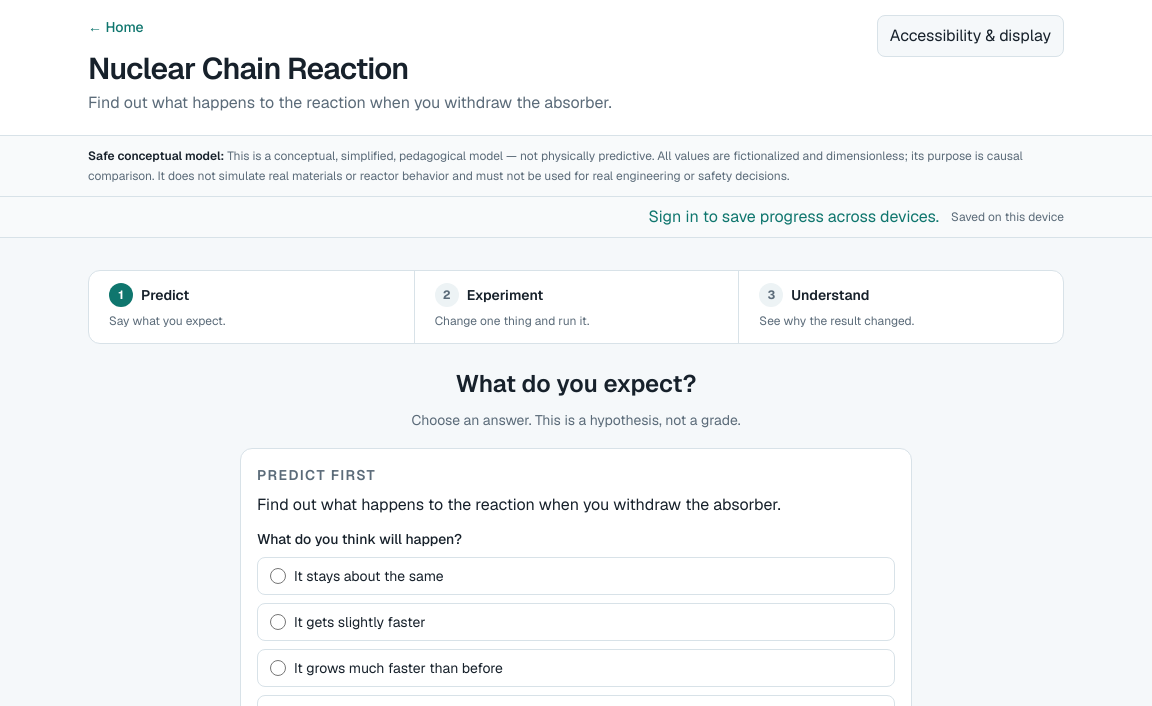
Test: ExperimentShell main learner flow › clears the session and returns to the predict step
Step 1. Click the radio button labelled "It gets slightly faster" → (278, 622), box top-left (270, 614), bottom-right (286, 630)
(page scrolled)
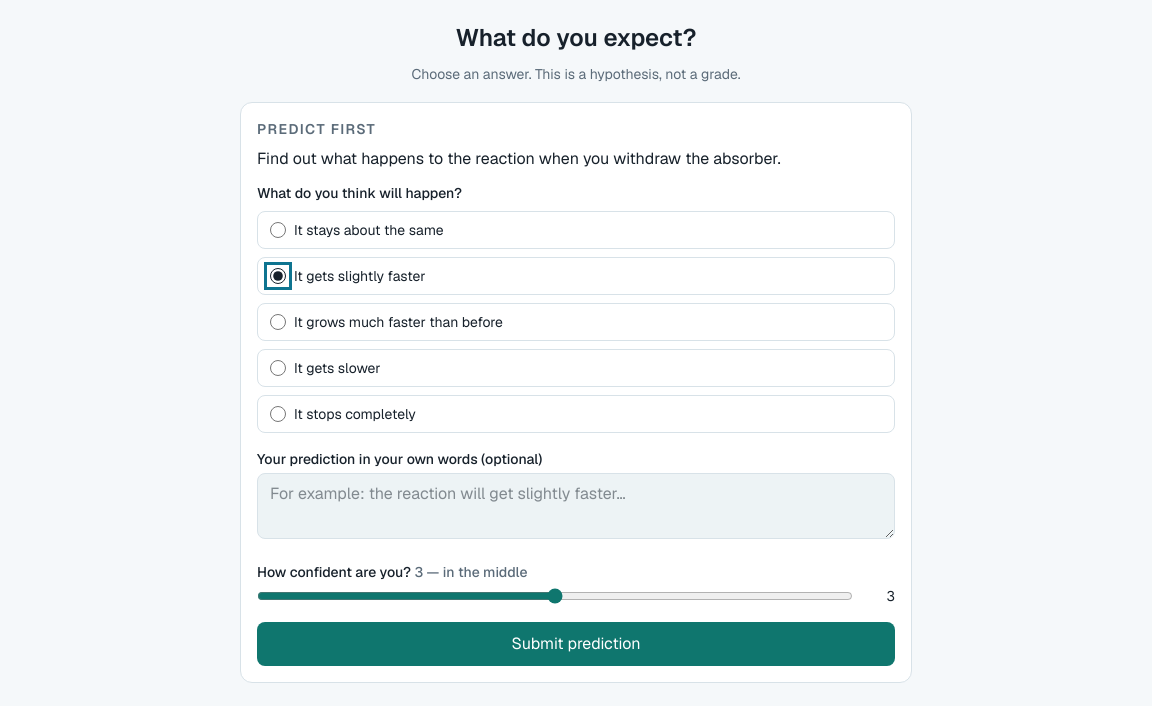
Step 2. Click the button "Submit prediction" → (576, 644), box top-left (257, 622), bottom-right (895, 666)
(page scrolled)
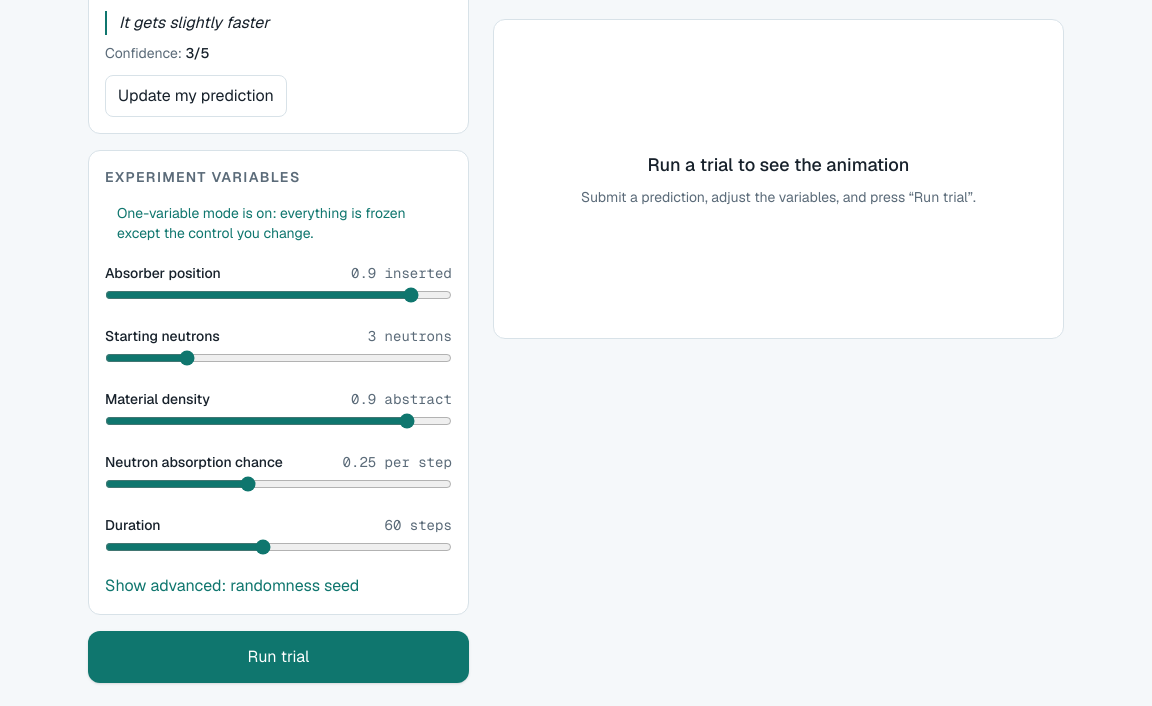
Step 3. Click the button "Run trial" → (278, 657), box top-left (88, 631), bottom-right (469, 683)
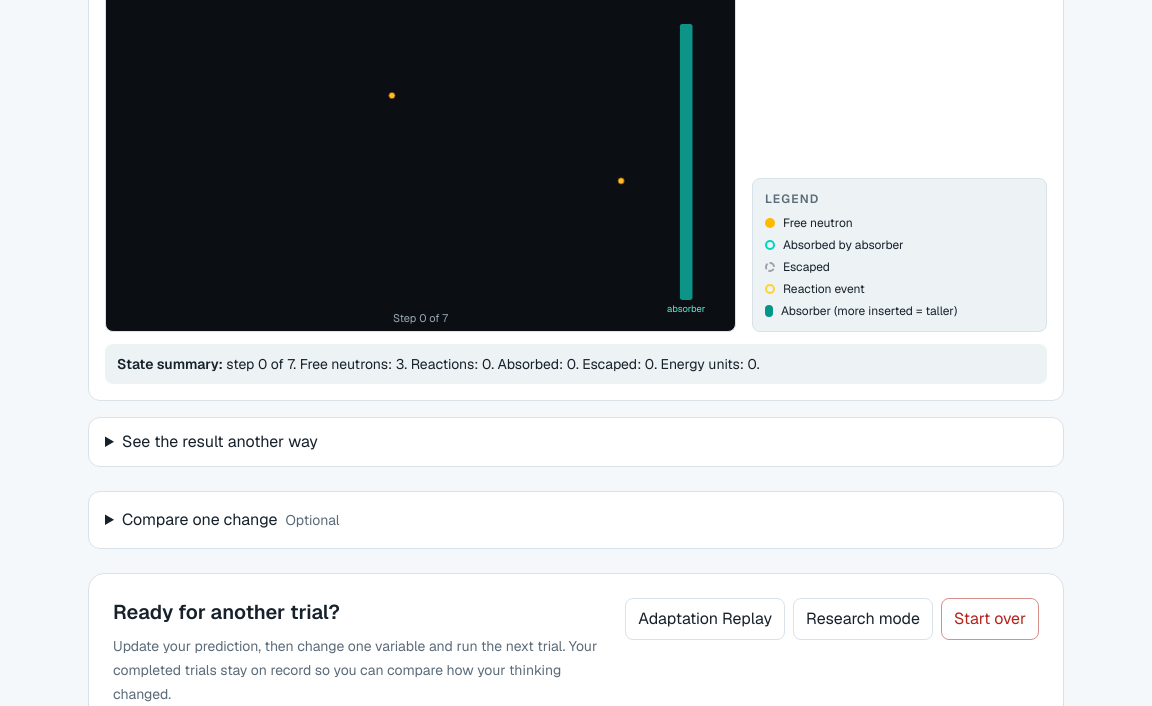
Expected: the text "State summary:" is shown, top-left (117, 355), bottom-right (223, 373)
Step 4. Click the button "Research mode" → (863, 619), box top-left (793, 598), bottom-right (933, 640)
(page scrolled)
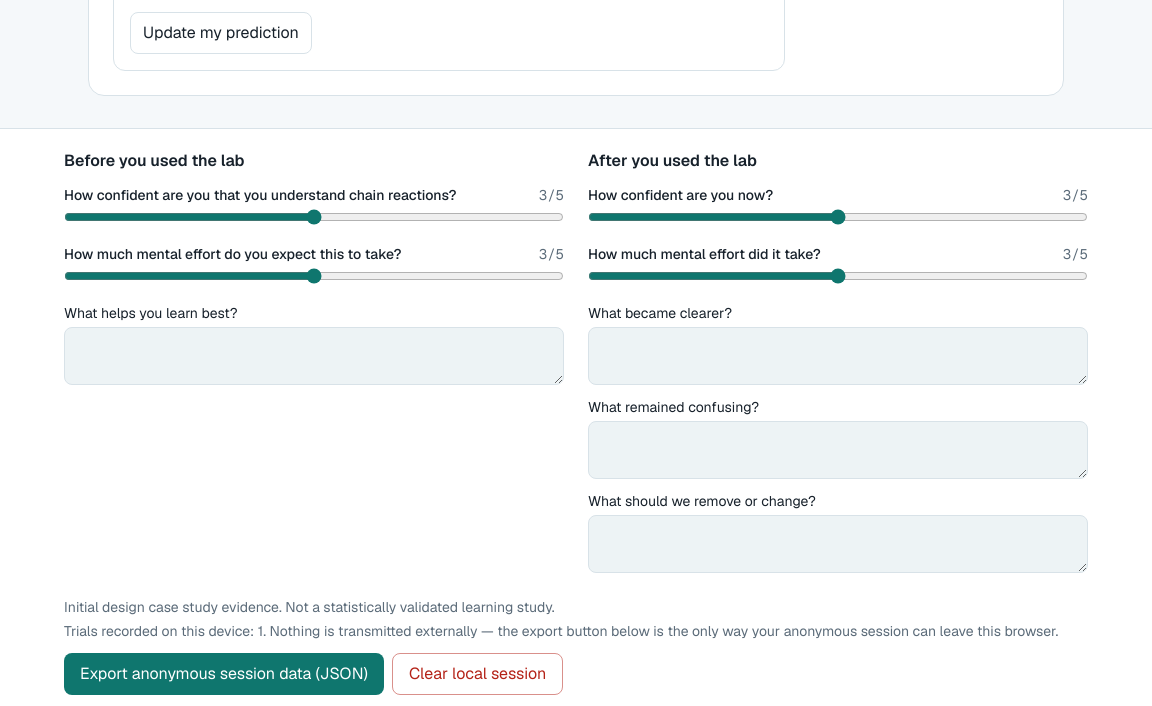
Step 5. Click the button "Clear local session" → (478, 674), box top-left (392, 653), bottom-right (563, 695)
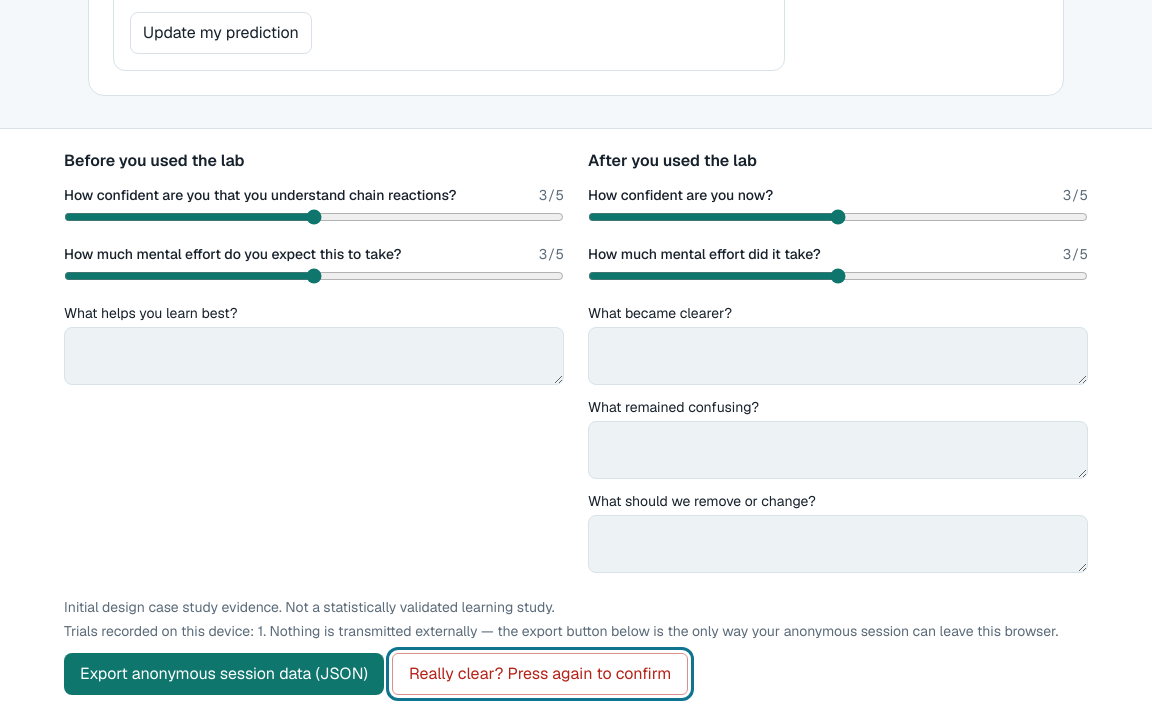
Step 6. Click the button "Really clear? Press again to confirm" → (540, 674), box top-left (392, 653), bottom-right (688, 695)
(page scrolled)
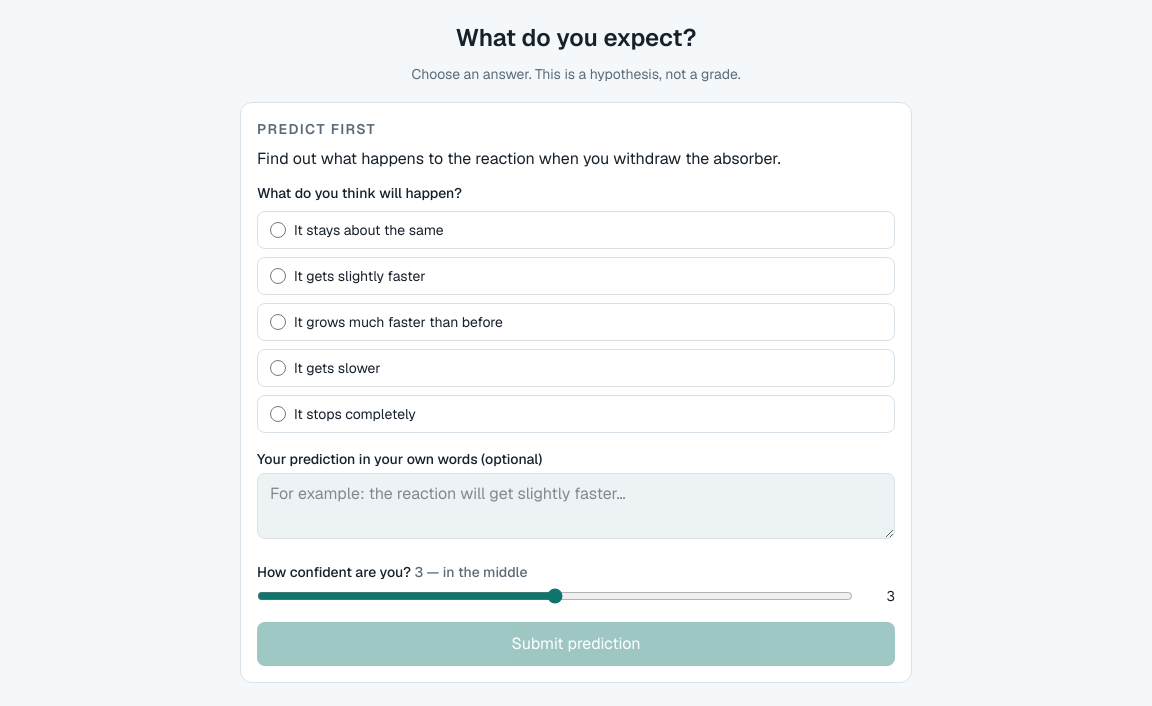
Expected: the button "Run trial" is not shown
Expected: the heading "Predict first" is shown, top-left (257, 120), bottom-right (376, 138)
